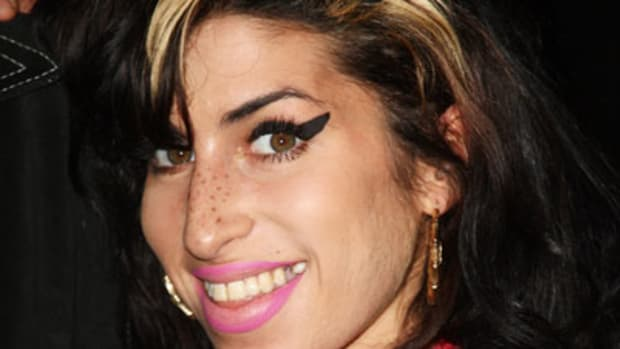bare: (140, 187, 406, 348)
